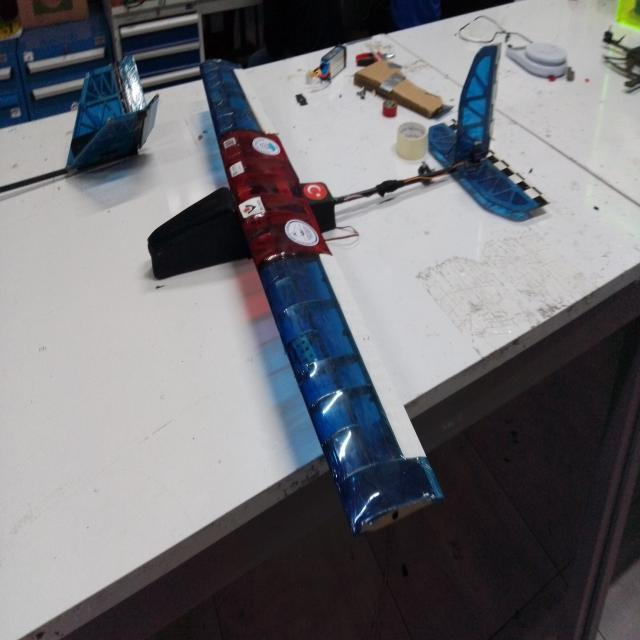iha: (148, 44, 560, 532)
